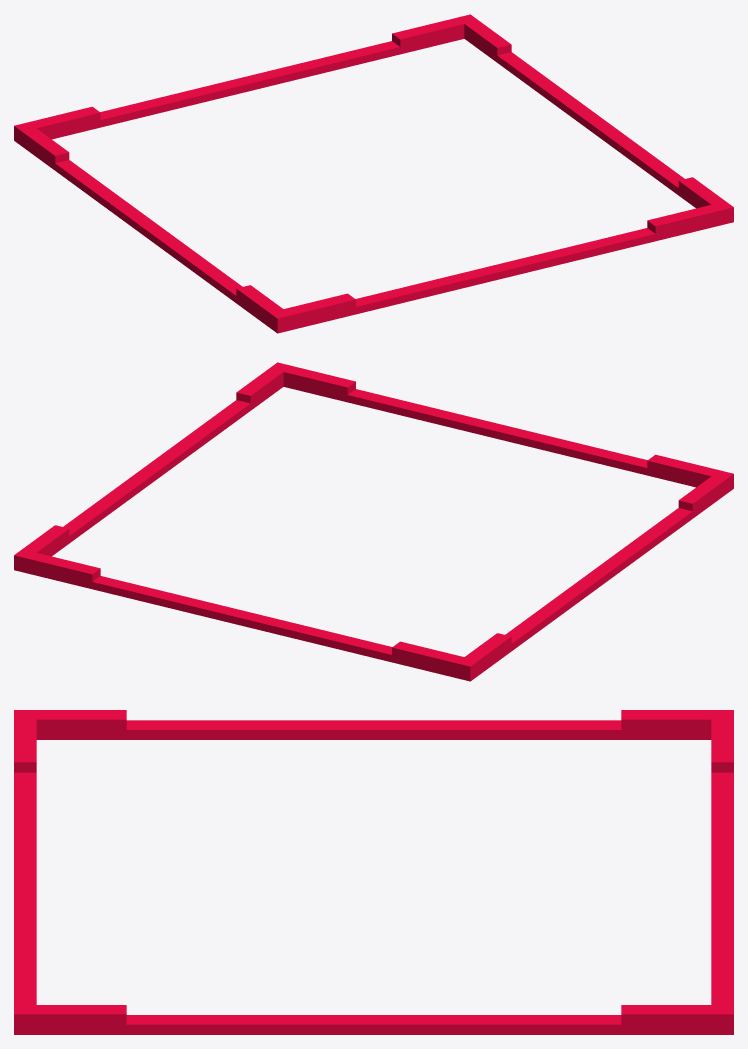
Rendered from towerSlice6.obj.
3 renders of one model, top to bottom at view 1: azimuth 30°, elevation 25°; view 2: azimuth 150°, elevation 25°; view 3: azimuth 270°, elevation 25°, orthographic. The views are drawn at different scales.
Bounding box in the file's own units: 6.4 × 0.2 × 6.4.
1 material, 1 textured.
